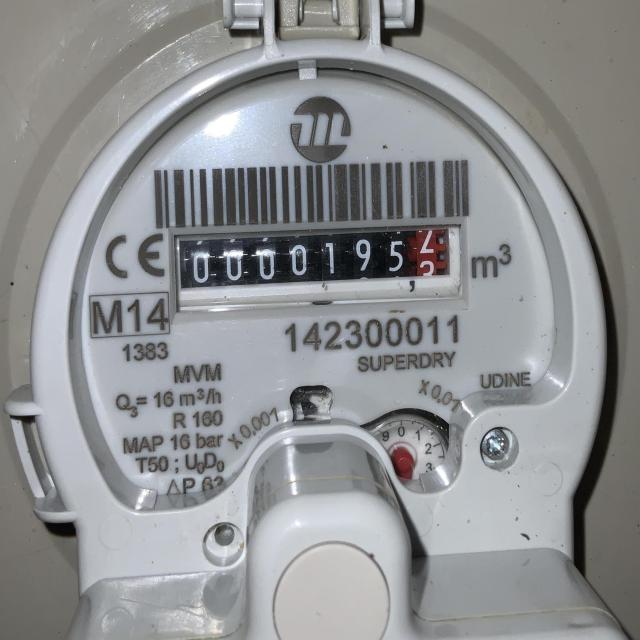gaz_meter: (28, 57, 609, 544)
indication: (177, 229, 450, 294)
